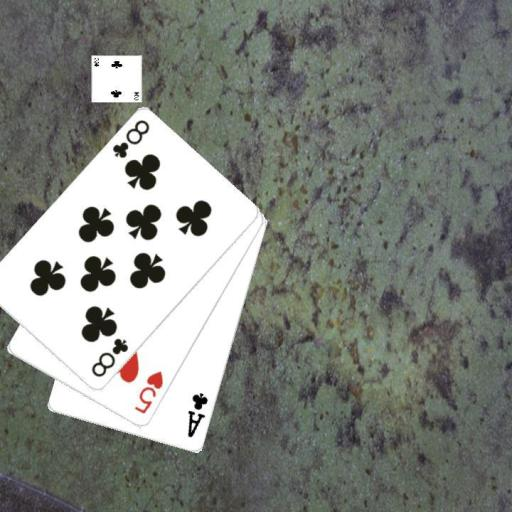5H: (131, 368, 165, 416)
8C: (88, 335, 130, 379), (109, 117, 151, 161)
AC: (184, 390, 210, 440)
